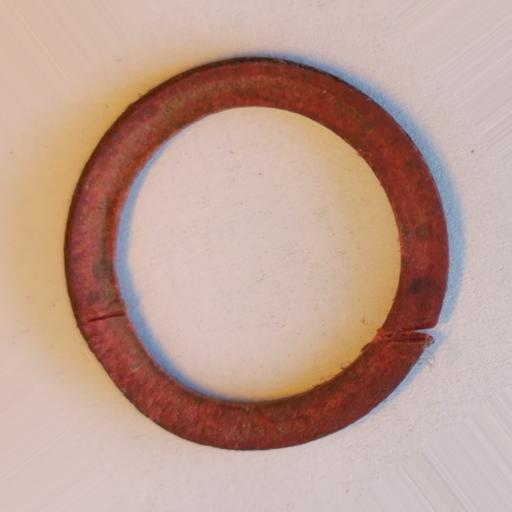defect: (364, 323, 438, 349), (83, 310, 126, 327)
